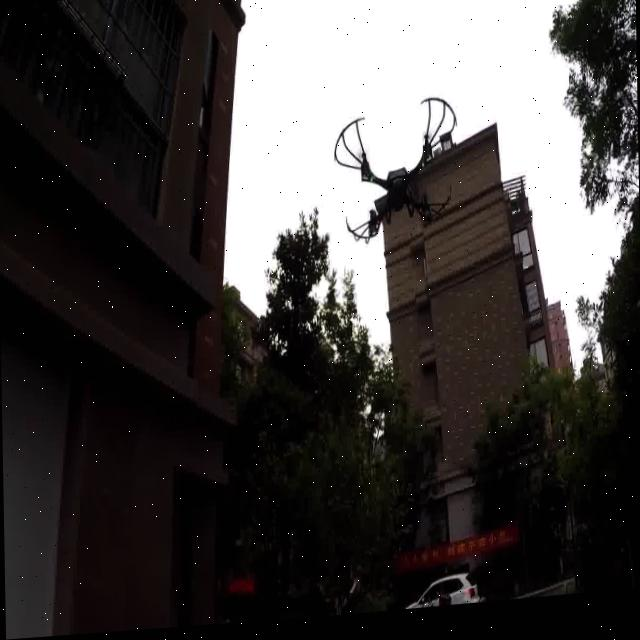drone: (330, 72, 461, 259)
